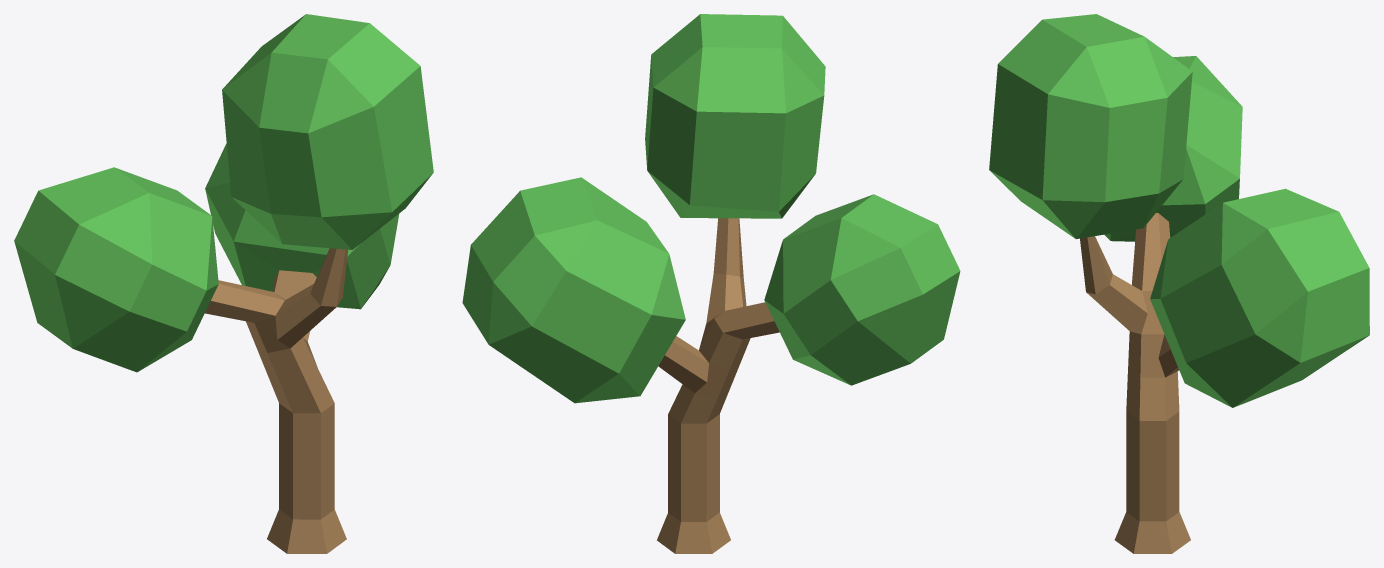
File: Tree01_HIGHLIGHT.fbx
3 renders of one model, left to right at view 1: azimuth 30°, elevation 25°; view 2: azimuth 150°, elevation 25°; view 3: azimuth 270°, elevation 25°, orthographic. The views are drawn at different scales.
Parts seen in each view (by area): view 1: Tree01; view 2: Tree01; view 3: Tree01.
Part boxes in pixels (<box>): Tree01: <box>14,14,433,553</box>; Tree01: <box>462,14,960,553</box>; Tree01: <box>989,14,1369,553</box>.
Size of the model in its own units: 190 by 220 by 150.
